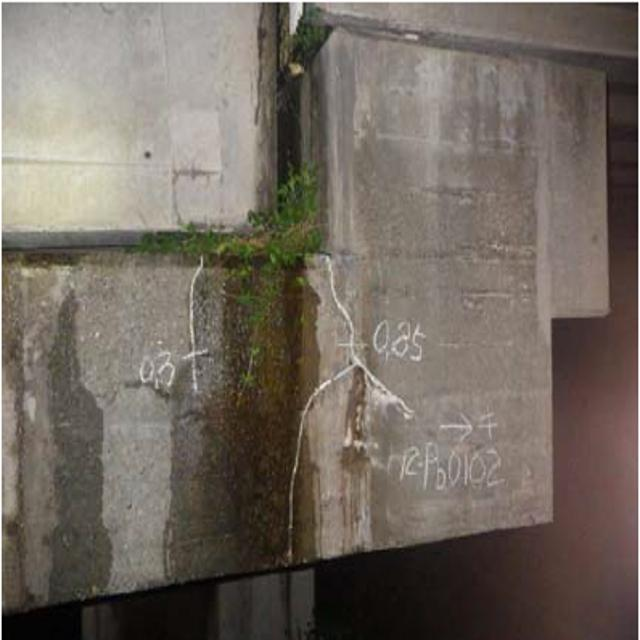leakage: (193, 237, 333, 566)
